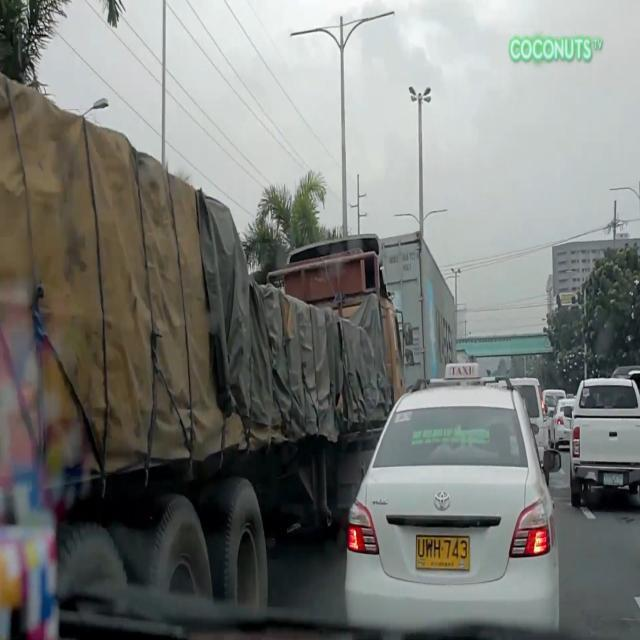truck: (0, 71, 415, 618), (373, 228, 468, 400)
